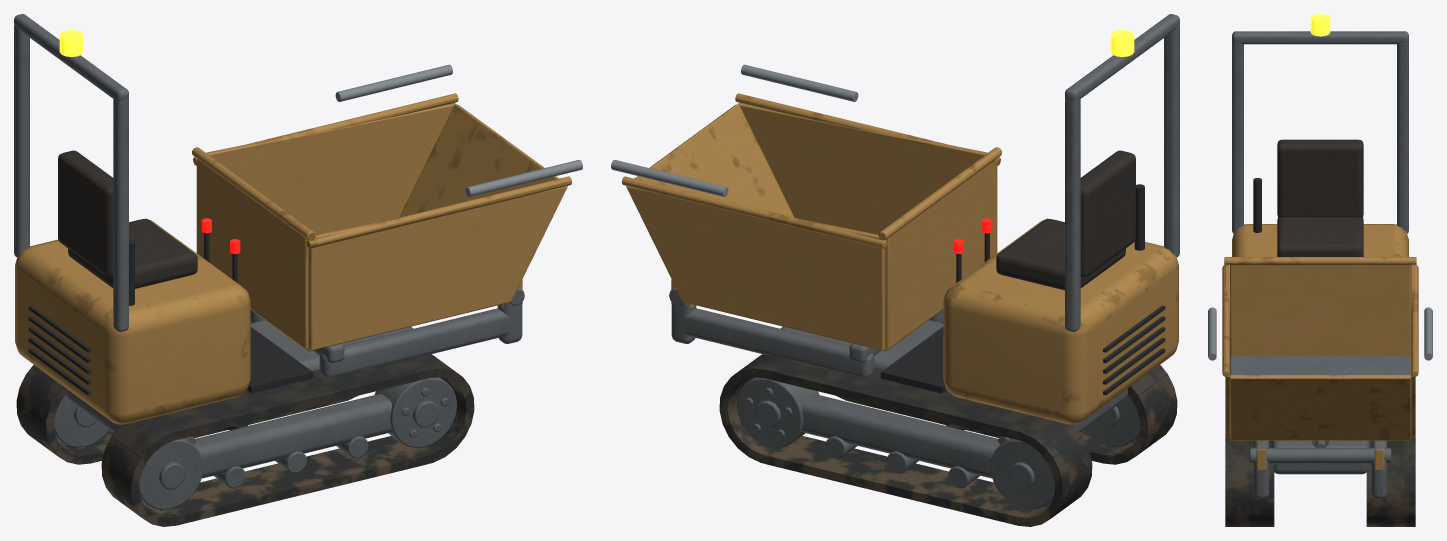
Rendered from dumper_rusty.glb.
3 views of the same model, side by side, from view 1: azimuth 30°, elevation 25°; view 2: azimuth 150°, elevation 25°; view 3: azimuth 270°, elevation 25° (orthographic). The views are drawn at different scales.
Visible parts, largest first — view 1: Skip, EngineCover, TrackBand, Chassis, RollBar, Seat, BodyDetails, TrackWheelR1, TrackWheelR0, TrackWheelL0, Clean skip safety rail.001, Clean skip safety rail; view 2: Skip, EngineCover, TrackBand, Chassis, Seat, RollBar, BodyDetails, TrackWheelL1, TrackWheelL0, TrackWheelR0, Clean skip safety rail, Clean skip safety rail.001; view 3: Skip, Seat, RollBar, TrackBand, Chassis, EngineCover, BodyDetails, Clean skip safety rail, Clean skip safety rail.001, Beacon.
Boxes of the visible parts, x1=… form: Skip: x1=192, y1=93, x2=571, y2=351; EngineCover: x1=15, y1=219, x2=250, y2=424; TrackBand: x1=16, y1=322, x2=474, y2=526; Chassis: x1=66, y1=287, x2=524, y2=488; RollBar: x1=14, y1=14, x2=128, y2=331; Seat: x1=58, y1=150, x2=197, y2=288; BodyDetails: x1=28, y1=239, x2=313, y2=395; TrackWheelR1: x1=374, y1=377, x2=457, y2=447; TrackWheelR0: x1=139, y1=436, x2=203, y2=510; TrackWheelL0: x1=54, y1=394, x2=109, y2=448; Clean skip safety rail.001: x1=335, y1=64, x2=452, y2=101; Clean skip safety rail: x1=465, y1=160, x2=582, y2=196; Skip: x1=622, y1=93, x2=1001, y2=351; EngineCover: x1=943, y1=219, x2=1178, y2=424; TrackBand: x1=719, y1=322, x2=1177, y2=526; Chassis: x1=669, y1=287, x2=1127, y2=488; Seat: x1=996, y1=150, x2=1135, y2=290; RollBar: x1=1065, y1=14, x2=1179, y2=331; BodyDetails: x1=880, y1=184, x2=1165, y2=395; TrackWheelL1: x1=736, y1=377, x2=819, y2=447; TrackWheelL0: x1=990, y1=436, x2=1054, y2=510; TrackWheelR0: x1=1084, y1=394, x2=1139, y2=448; Clean skip safety rail: x1=741, y1=64, x2=858, y2=101; Clean skip safety rail.001: x1=611, y1=160, x2=728, y2=196; Skip: x1=1222, y1=257, x2=1418, y2=470; Seat: x1=1277, y1=139, x2=1363, y2=256; RollBar: x1=1232, y1=31, x2=1408, y2=233; TrackBand: x1=1225, y1=438, x2=1415, y2=526; Chassis: x1=1249, y1=440, x2=1391, y2=498; EngineCover: x1=1232, y1=224, x2=1408, y2=256; BodyDetails: x1=1253, y1=178, x2=1261, y2=232; Clean skip safety rail: x1=1208, y1=307, x2=1216, y2=360; Clean skip safety rail.001: x1=1424, y1=307, x2=1432, y2=360; Beacon: x1=1310, y1=14, x2=1330, y2=36.
Size of the model in its own units: 2.23 by 2.15 by 1.14.
Materials: 13 (9 with a texture image).
